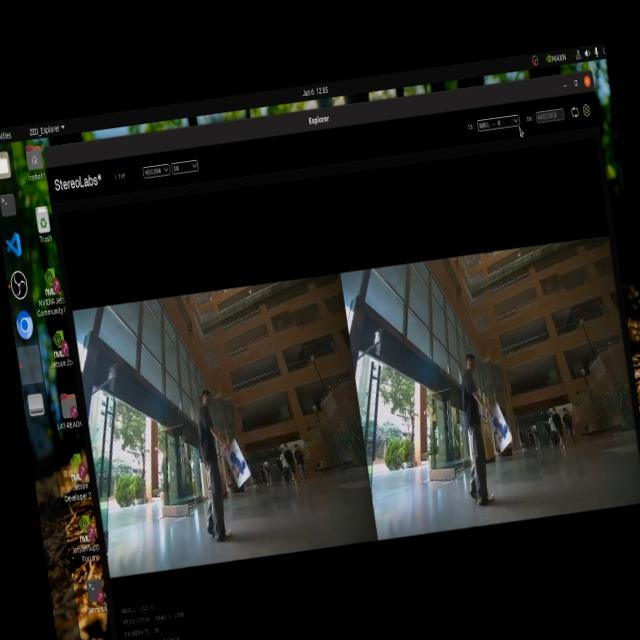blue: (488, 408, 518, 461), (228, 444, 253, 484)
